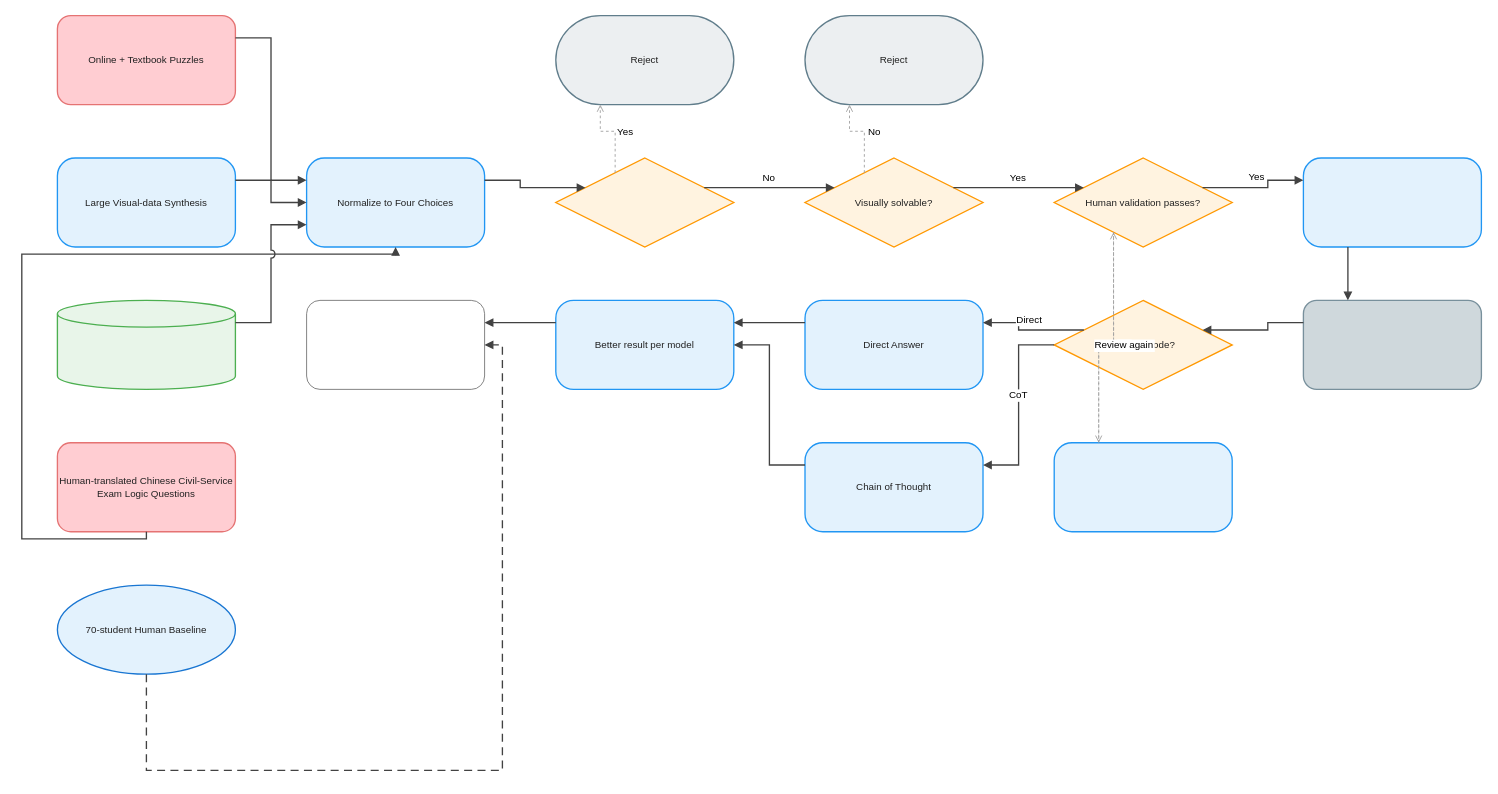
This 1498x794 diagram has some shape labels left out. Here are the shapes that lost their labels. From the top down, the box of each, then its label:
(555, 157, 734, 247): Needs advanced/domain knowledge?
(1302, 157, 1482, 247): Reasoning Category + Difficulty
(56, 299, 236, 390): Repurposed Multimodal Benchmarks
(306, 299, 485, 389): Accuracy
(1302, 299, 1482, 390): Release · 1,168 four-choice items
(1053, 442, 1232, 532): Revise clarity / solvability
